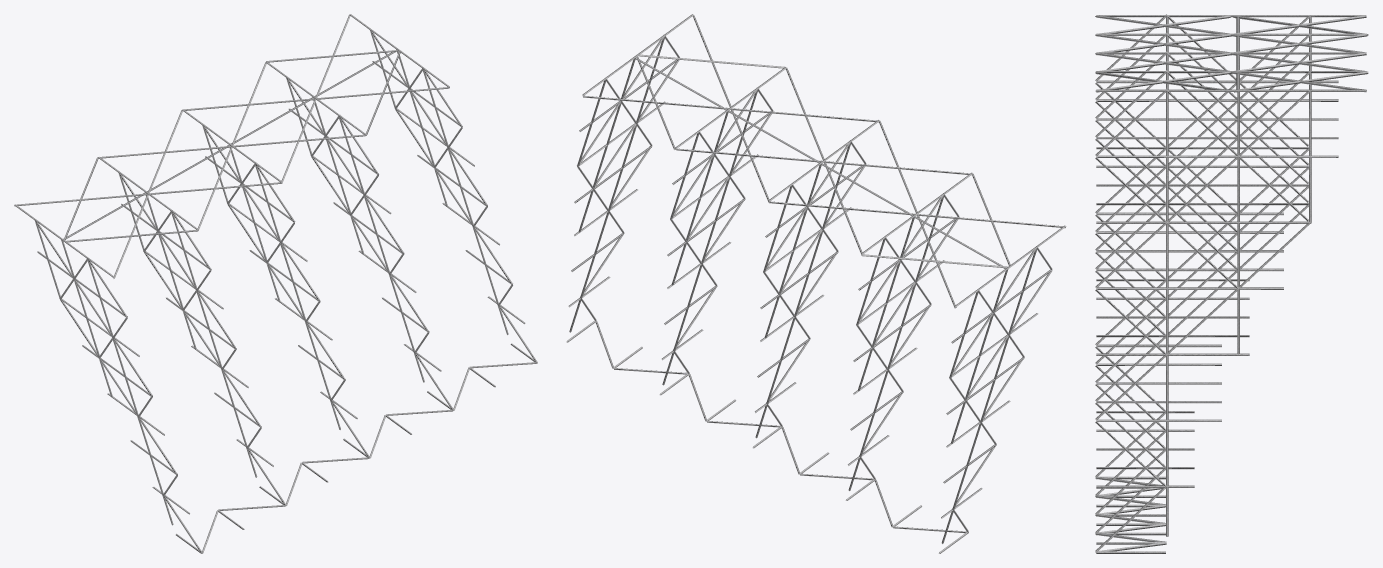
The model's file is _0TRIBUENE_02_009_SUB2_Scene.146.obj.
3 renders of one model, left to right at view 1: azimuth 30°, elevation 25°; view 2: azimuth 150°, elevation 25°; view 3: azimuth 270°, elevation 25°, orthographic. The views are drawn at different scales.
Visible parts, largest first — view 1: _0TRIBUENE_02_009_SUB2_Scene.146; view 2: _0TRIBUENE_02_009_SUB2_Scene.146; view 3: _0TRIBUENE_02_009_SUB2_Scene.146.
Part boxes in pixels (bbox=[...]): _0TRIBUENE_02_009_SUB2_Scene.146: bbox=[14, 14, 537, 553]; _0TRIBUENE_02_009_SUB2_Scene.146: bbox=[566, 14, 1066, 553]; _0TRIBUENE_02_009_SUB2_Scene.146: bbox=[1095, 14, 1368, 553].
Size of the model in its own units: 38.76 by 35.53 by 15.91.
